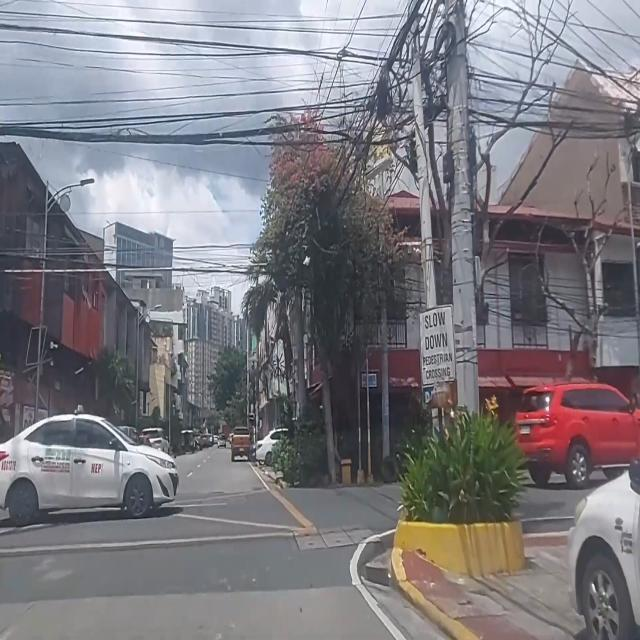car: (0, 414, 180, 525), (516, 383, 640, 488), (568, 460, 640, 640), (255, 428, 288, 466), (230, 427, 252, 461), (142, 428, 169, 453)
jeepney: (181, 430, 195, 454), (202, 434, 213, 446)
